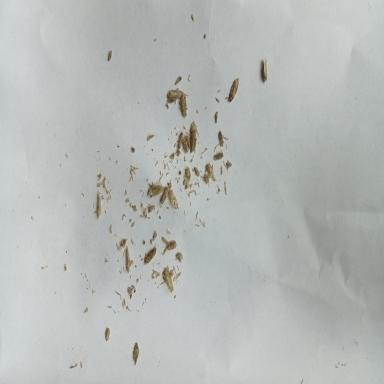pbw: (189, 118, 197, 155), (229, 77, 240, 102), (166, 88, 182, 105), (164, 268, 174, 293), (144, 247, 157, 264), (147, 183, 160, 198), (205, 164, 216, 180), (96, 191, 102, 219), (132, 342, 139, 366), (181, 90, 187, 117), (124, 246, 130, 273), (160, 186, 169, 204), (263, 58, 268, 82), (218, 129, 224, 146), (213, 152, 224, 160), (178, 131, 183, 148), (168, 240, 176, 250), (193, 166, 200, 176)
